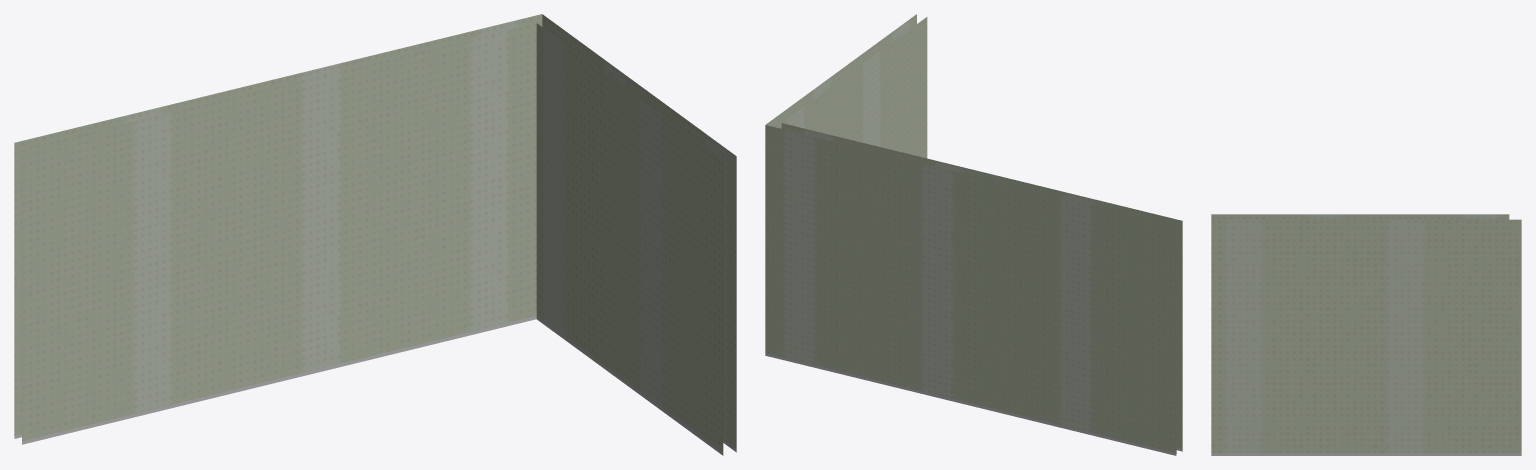
3 views of the same model, side by side, from view 1: azimuth 30°, elevation 25°; view 2: azimuth 150°, elevation 25°; view 3: azimuth 270°, elevation 25° (orthographic). The views are drawn at different scales.
Parts seen in each view (by area): view 1: Mesh (63); view 2: Mesh (63); view 3: Mesh (63).
Boxes of the visible parts, x1=… form: Mesh (63): x1=14, y1=14, x2=736, y2=455; Mesh (63): x1=765, y1=14, x2=1182, y2=455; Mesh (63): x1=1211, y1=214, x2=1521, y2=455.
Bounding box in the file's own units: 649 × 348 × 414.
